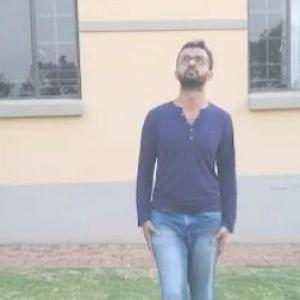follow: (132, 27, 245, 299)
